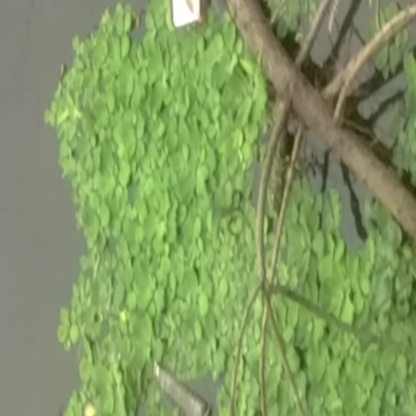branch: (235, 3, 416, 232)
